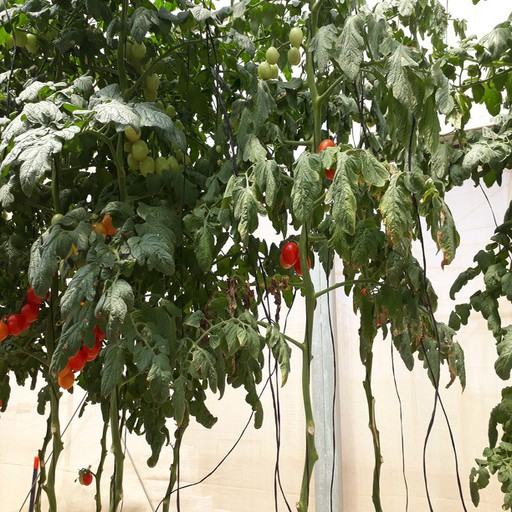green tomato bunch: (122, 42, 176, 119), (126, 123, 180, 179), (259, 26, 304, 81), (12, 23, 72, 60)
mixed tomato bunch: (49, 214, 129, 249)
red tomato bunch: (61, 309, 107, 389), (1, 283, 49, 341), (281, 240, 311, 274), (319, 140, 339, 180)
